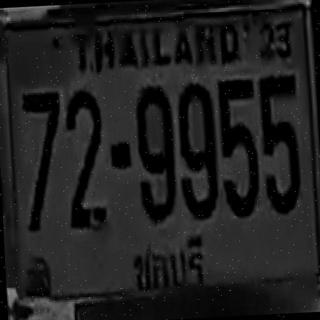N02: (62, 88, 107, 228), (63, 88, 106, 216)
N05: (257, 73, 302, 215), (218, 78, 261, 217)
N07: (20, 88, 65, 230)
N09: (175, 80, 219, 220), (134, 85, 178, 222)
P13: (124, 231, 216, 296)
